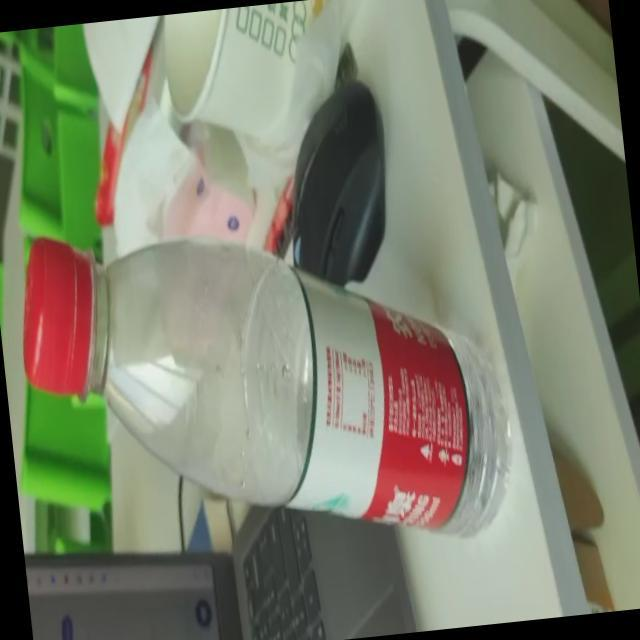good: (0, 195, 517, 588)
